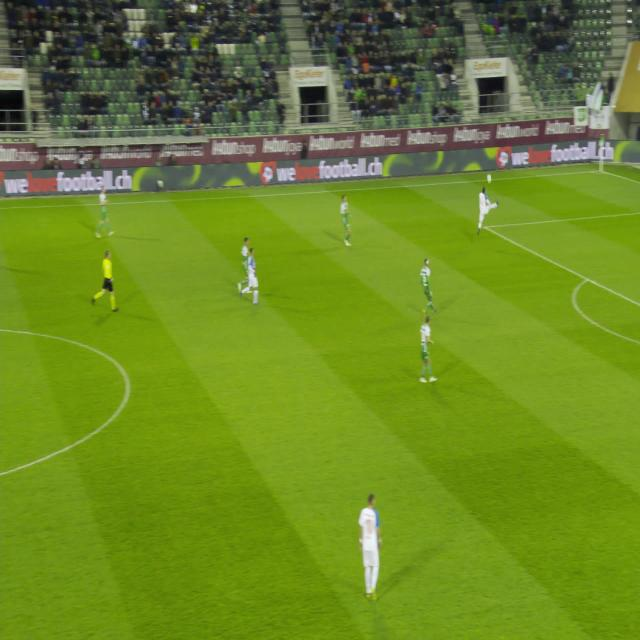Ball: (486, 168, 494, 186)
Player: (347, 488, 387, 610), (413, 314, 443, 391), (332, 188, 363, 258), (470, 186, 506, 238), (416, 247, 440, 321), (241, 244, 261, 316), (92, 184, 116, 244), (237, 229, 252, 296)
Referee: (88, 247, 121, 326)
